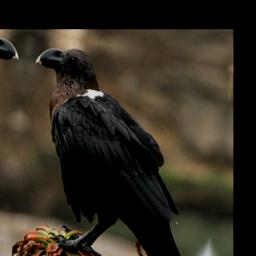Crow: (11, 40, 223, 256)
